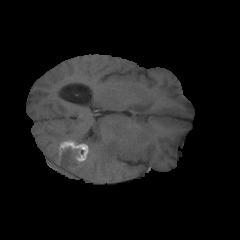glioma: (42, 127, 121, 177)
